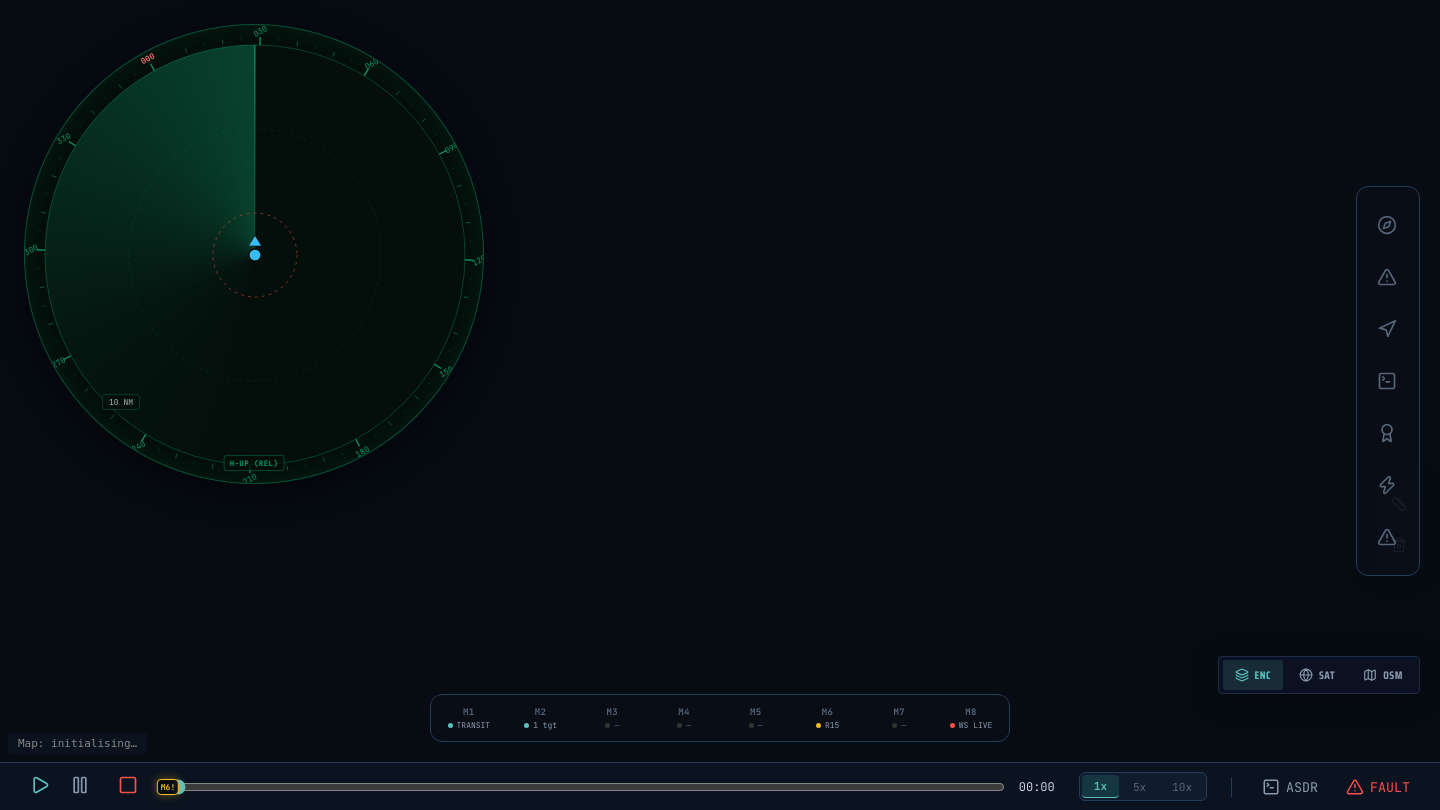
Test: SimulationMonitor › converts ownShip state values from radians/mps/radps to degrees/knots/deg-per-min
The width and height of the screenshot is (1440, 810).
Click the button with test id "right-tab-ship" at (1388, 225), box [1366, 203, 1410, 247]
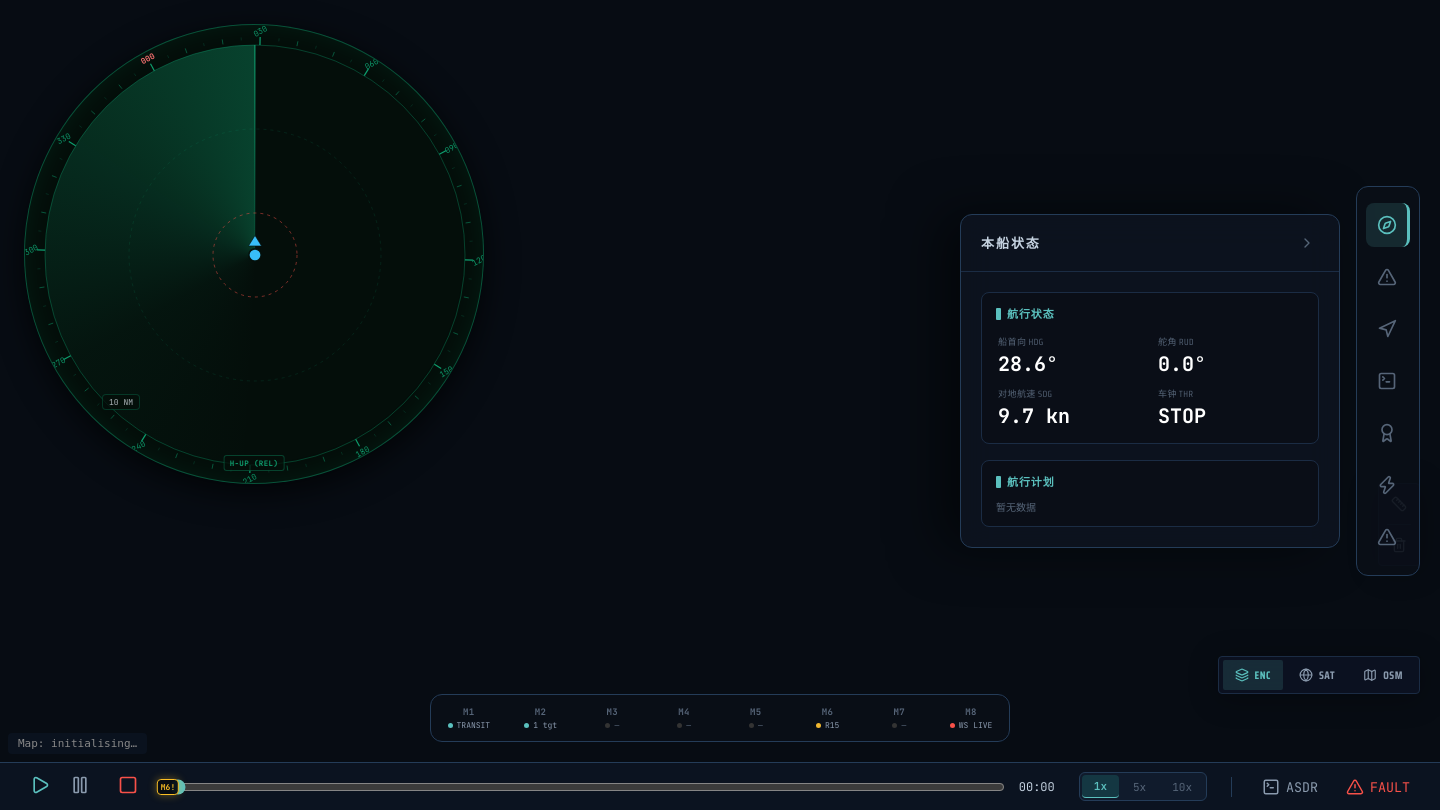
expect the text "28.6°" is shown: met, box [998, 351, 1058, 377]
expect the text "0.0°" is shown: met, box [1158, 351, 1206, 377]
expect the text "9.7 kn" is shown: met, box [998, 403, 1070, 429]
